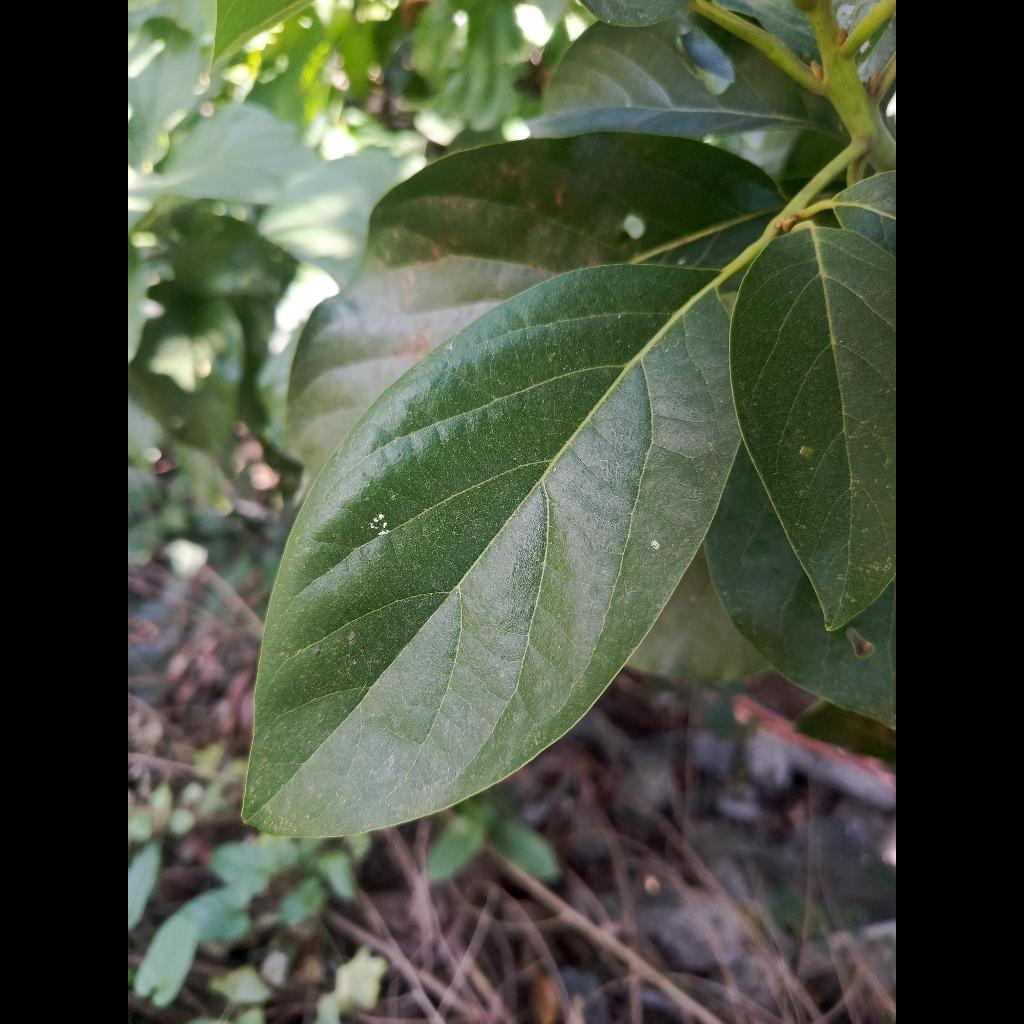Healthy: (243, 265, 738, 837), (730, 225, 896, 629)
